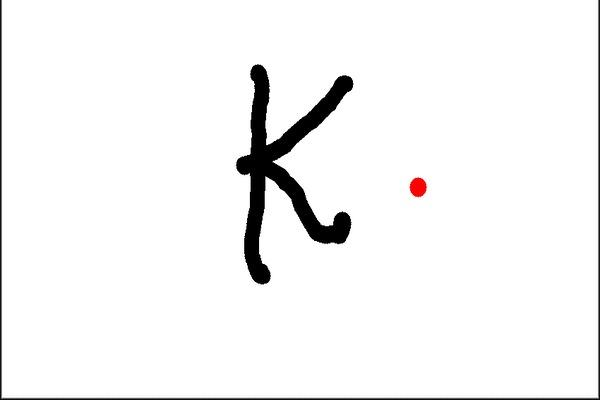K: (230, 59, 363, 288)
